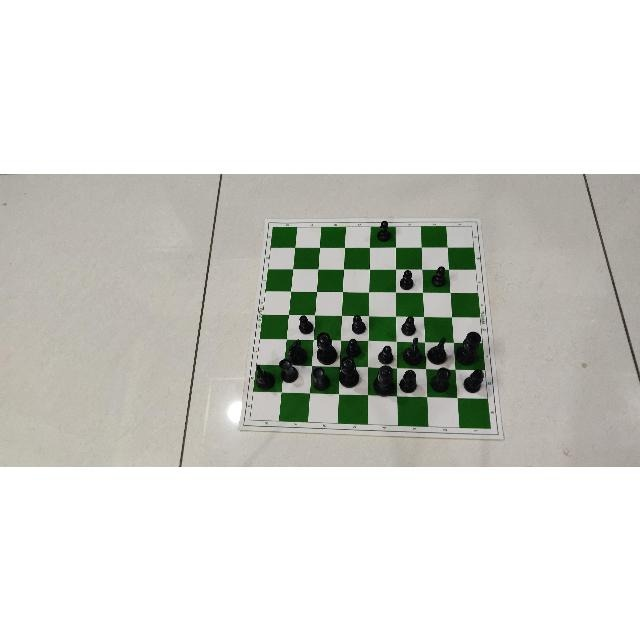black-bishop: (461, 366, 484, 395), (461, 367, 484, 393), (399, 368, 419, 393), (400, 366, 418, 393)
black-king: (454, 330, 482, 366), (455, 330, 481, 366), (372, 363, 396, 396), (371, 363, 392, 396)
black-knight: (252, 361, 277, 391), (400, 336, 423, 366), (426, 335, 448, 365), (402, 337, 426, 364), (287, 336, 310, 363), (287, 337, 309, 365), (428, 337, 449, 362), (255, 364, 275, 390)
black-pawn: (432, 262, 449, 287), (376, 217, 394, 240), (351, 312, 369, 334), (298, 311, 316, 333), (376, 219, 392, 243), (376, 343, 395, 363), (430, 265, 447, 287), (400, 267, 416, 290), (400, 315, 418, 335), (376, 344, 394, 364), (399, 268, 415, 290), (345, 337, 362, 357), (350, 314, 367, 334), (400, 315, 416, 335), (345, 338, 361, 358), (298, 314, 314, 334)
black-queen: (314, 331, 338, 365), (336, 354, 359, 387), (316, 330, 338, 364), (336, 357, 359, 387)
black-rook: (429, 365, 451, 392), (276, 358, 299, 382), (278, 357, 299, 383), (310, 365, 331, 391), (310, 366, 332, 390), (432, 367, 451, 390)
